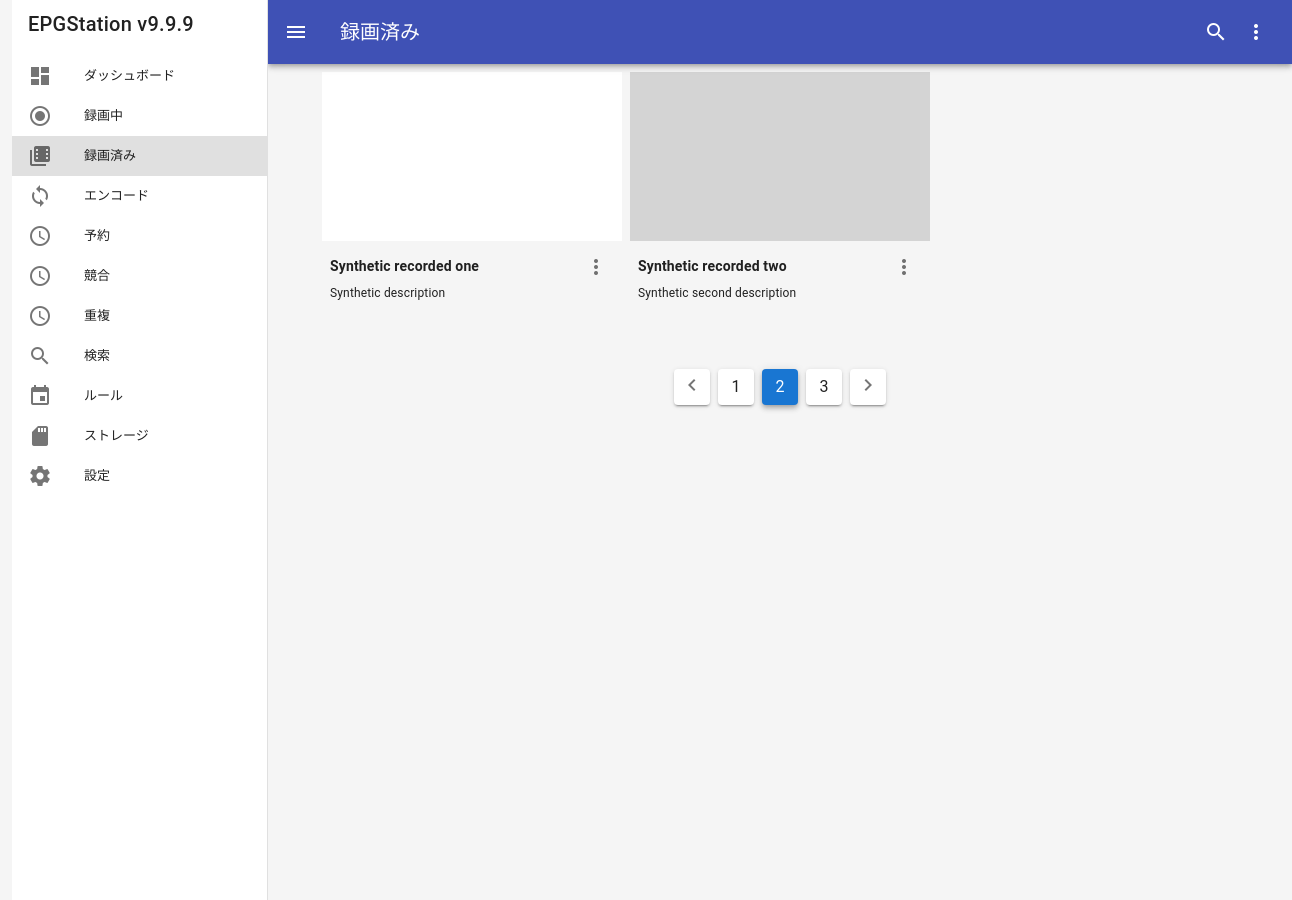
Scenario: Recorded list route lifecycle › [AC 1.10] shows snackbar when a route-driven refetch fails after returning to a cached page
This screenshot has width=1292, height=900.
Click the button named "次のページ": click(868, 387) [850,369,886,405]
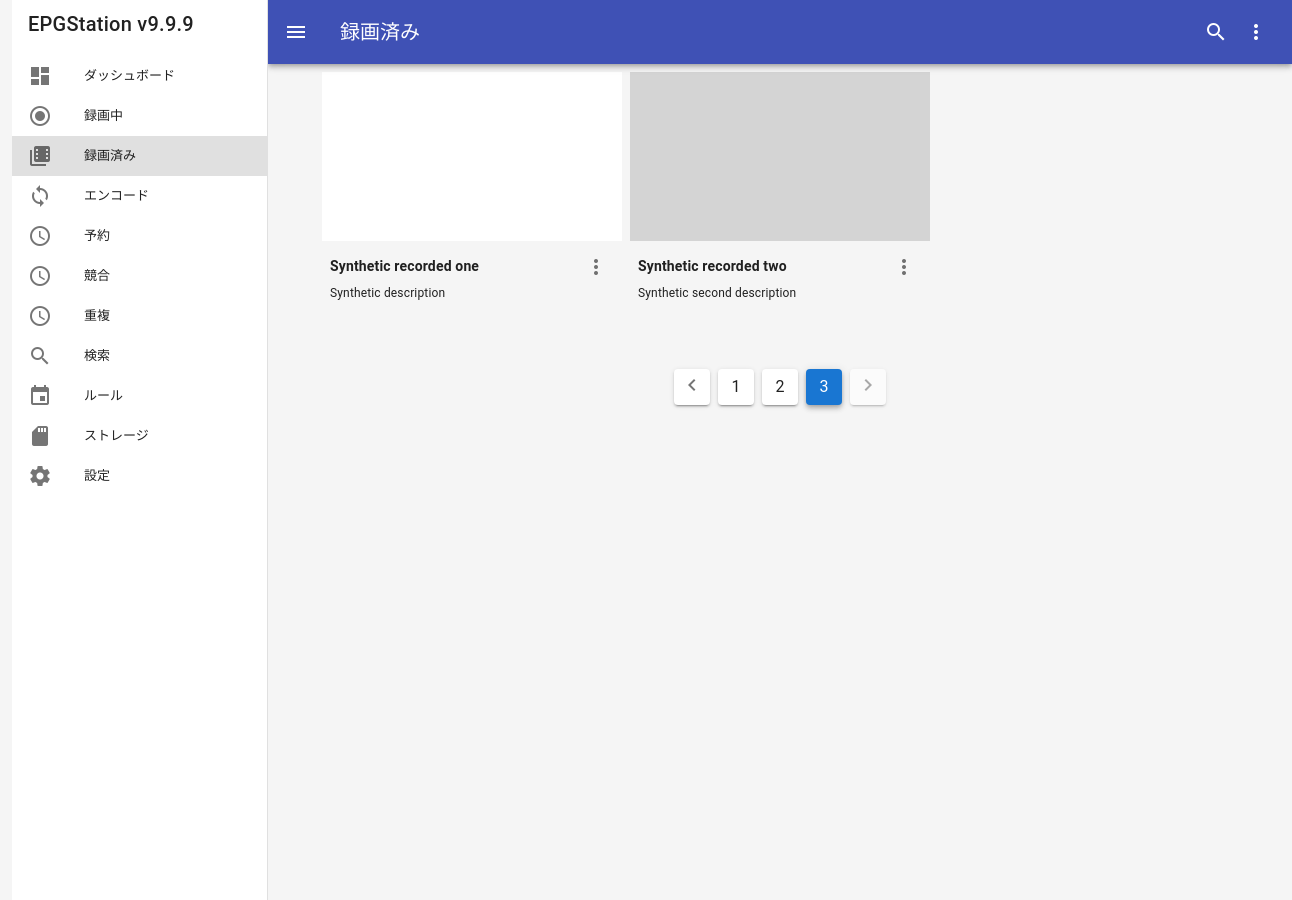
Click the button named "前のページ": click(692, 387) [674,369,710,405]
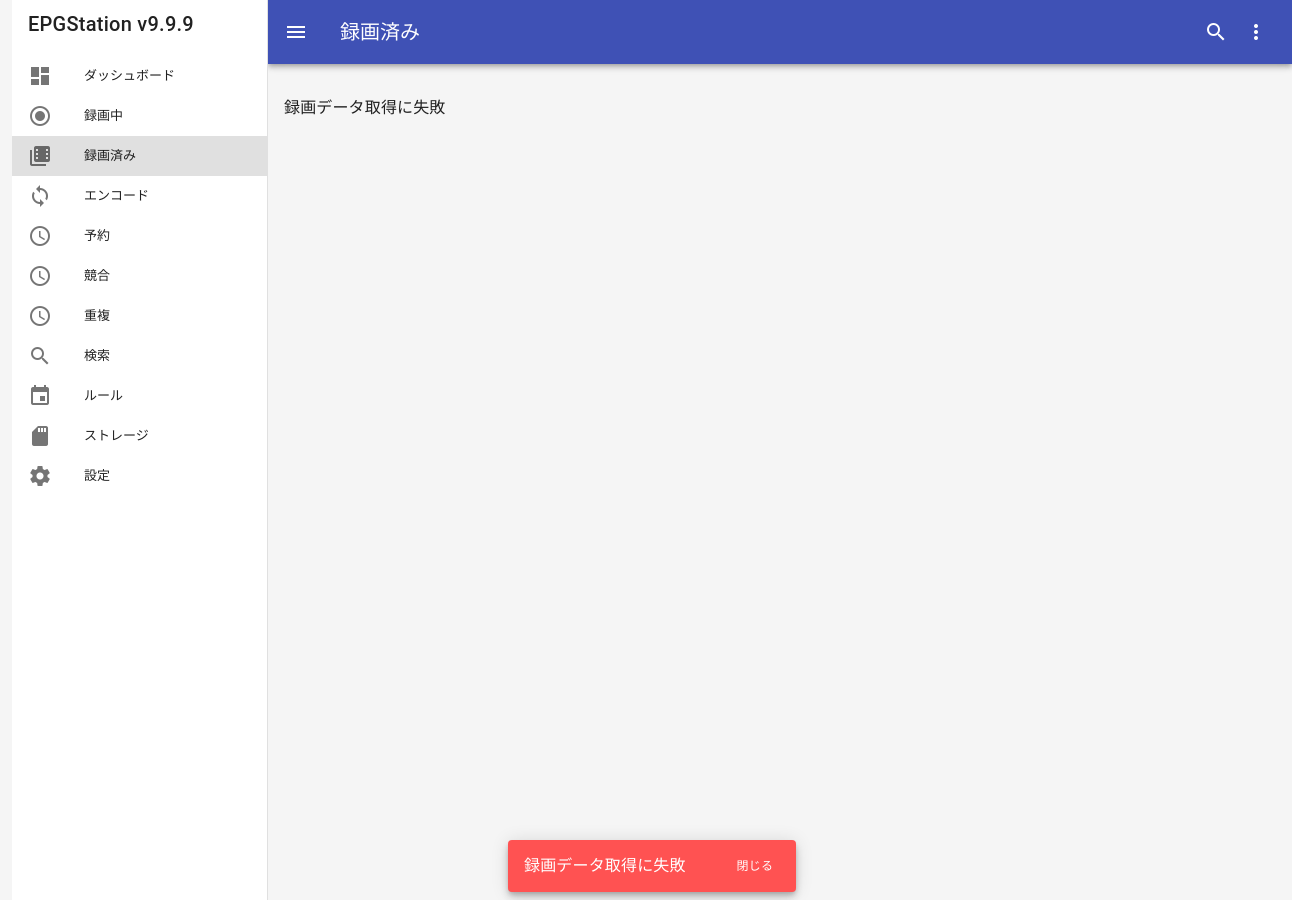
Check: the message shows "録画データ取得に失敗", box [524,856,686,875]
